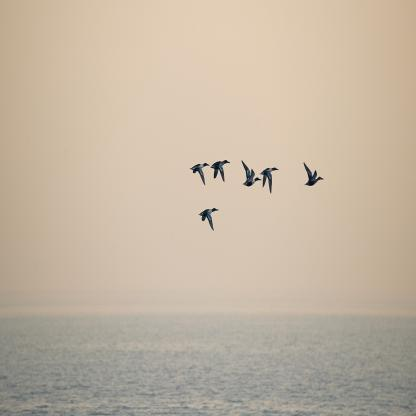bird: (242, 159, 262, 187), (259, 167, 279, 194), (303, 162, 324, 186), (198, 208, 219, 231), (210, 159, 230, 182), (190, 163, 210, 185)
